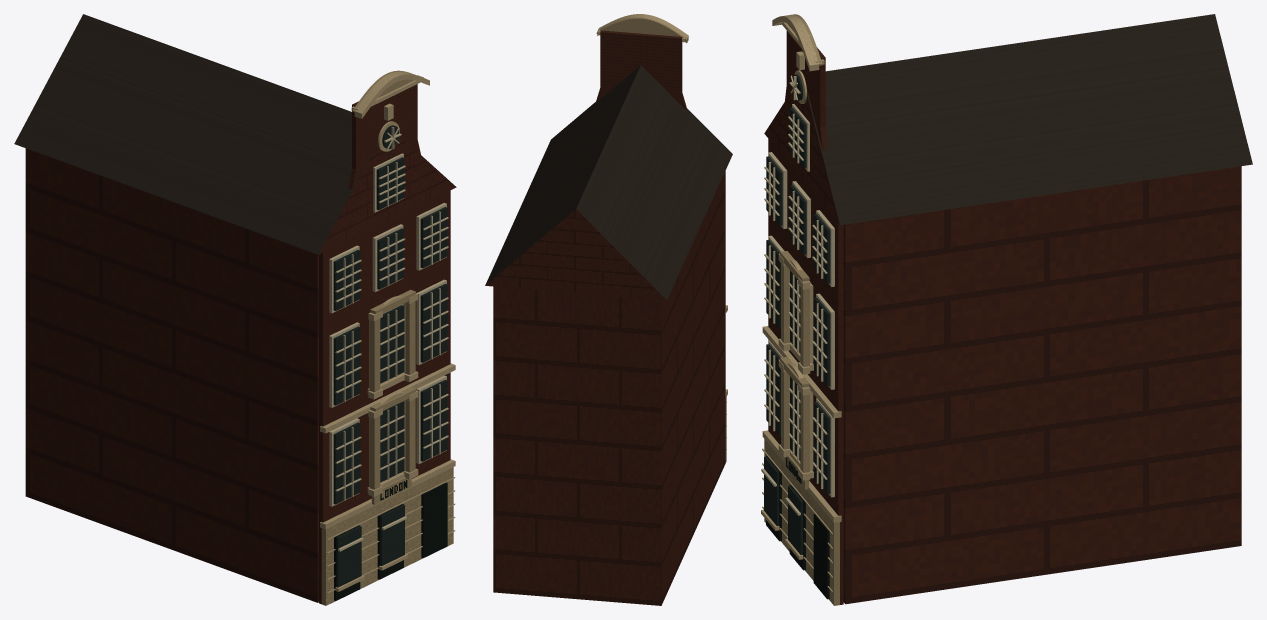
The picture shows the model from 3 angles, left to right: view 1: azimuth 30°, elevation 25°; view 2: azimuth 150°, elevation 25°; view 3: azimuth 270°, elevation 25°; orthographic projection. The views are drawn at different scales.
Parts seen in each view (by area): view 1: huis-londen-nieuwehaven137-0, huis-londen-nieuwehaven137-1, huis-londen-nieuwehaven137-3, huis-londen-nieuwehaven137-5, huis-londen-nieuwehaven137-4, huis-londen-nieuwehaven137-2, huis-londen-nieuwehaven137-6; view 2: huis-londen-nieuwehaven137-0, huis-londen-nieuwehaven137-1, huis-londen-nieuwehaven137-4, huis-londen-nieuwehaven137-2; view 3: huis-londen-nieuwehaven137-0, huis-londen-nieuwehaven137-1, huis-londen-nieuwehaven137-3, huis-londen-nieuwehaven137-5, huis-londen-nieuwehaven137-4, huis-londen-nieuwehaven137-2, huis-londen-nieuwehaven137-6.
Part boxes in pixels (left/top/right/bottom): huis-londen-nieuwehaven137-0: left=25, top=84, right=456, bottom=604; huis-londen-nieuwehaven137-1: left=14, top=14, right=377, bottom=254; huis-londen-nieuwehaven137-3: left=333, top=125, right=447, bottom=587; huis-londen-nieuwehaven137-5: left=329, top=127, right=448, bottom=551; huis-londen-nieuwehaven137-4: left=321, top=70, right=453, bottom=605; huis-londen-nieuwehaven137-2: left=320, top=71, right=455, bottom=593; huis-londen-nieuwehaven137-6: left=334, top=480, right=447, bottom=600; huis-londen-nieuwehaven137-0: left=485, top=30, right=725, bottom=605; huis-londen-nieuwehaven137-1: left=485, top=65, right=732, bottom=299; huis-londen-nieuwehaven137-4: left=596, top=17, right=726, bottom=462; huis-londen-nieuwehaven137-2: left=597, top=14, right=727, bottom=449; huis-londen-nieuwehaven137-0: left=764, top=31, right=1241, bottom=604; huis-londen-nieuwehaven137-1: left=806, top=14, right=1252, bottom=225; huis-londen-nieuwehaven137-3: left=764, top=74, right=830, bottom=554; huis-londen-nieuwehaven137-5: left=761, top=75, right=834, bottom=515; huis-londen-nieuwehaven137-4: left=764, top=14, right=839, bottom=605; huis-londen-nieuwehaven137-2: left=761, top=14, right=841, bottom=592; huis-londen-nieuwehaven137-6: left=766, top=456, right=829, bottom=599.
Bounding box in the file's own units: 10.32 × 17.15 × 14.06.
7 materials, 7 textured.
